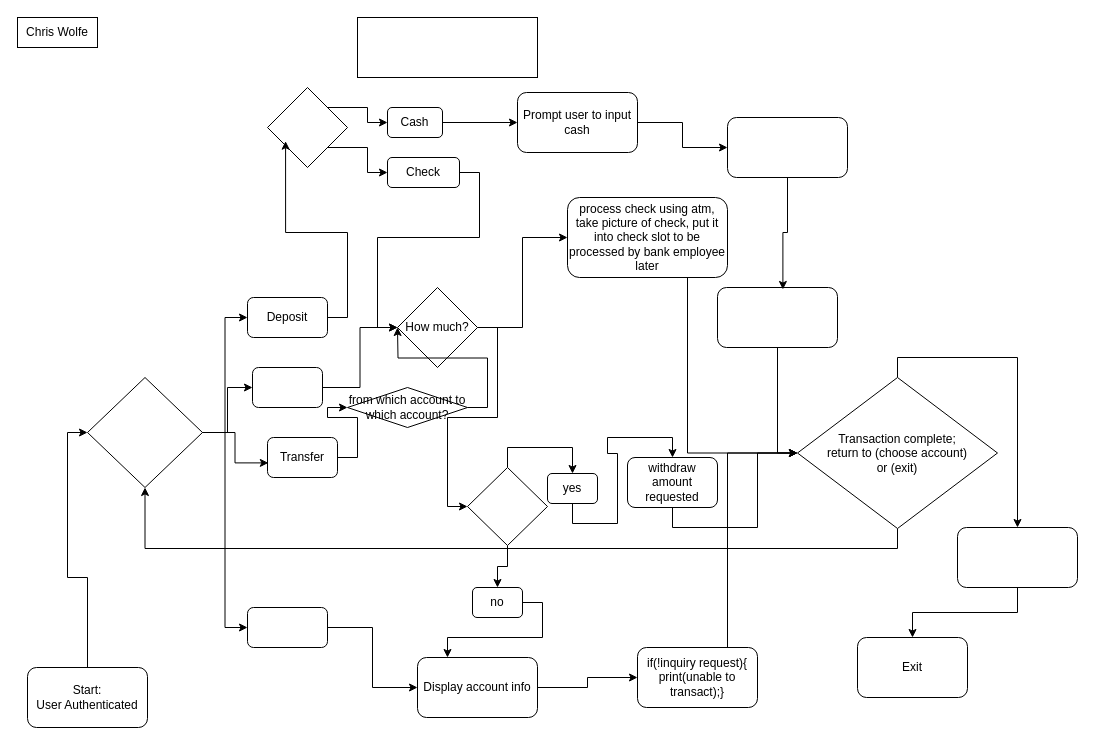
This 1095x745 diagram has some shape labels left out. Here are the shapes that lost their labels. From the top down, the centre of each, then its label:
At point (447, 47): "CS3667 Software Engineering ATM Sequence Diagram".
At point (307, 127): "Cash or Check?".
At point (787, 147): "count cash".
At point (777, 317): "display amount input".
At point (287, 387): "Withdraw".
At point (144, 432): "Choose account to modify".
At point (507, 506): "Is there enough in account?".
At point (1017, 557): "Eject ATM Card and notify user".
At point (287, 627): "Inquiry".
